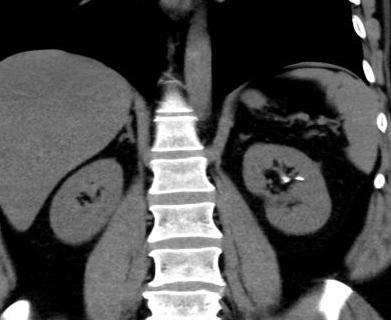Tas_Var: (281, 176, 292, 185), (295, 176, 305, 182)
